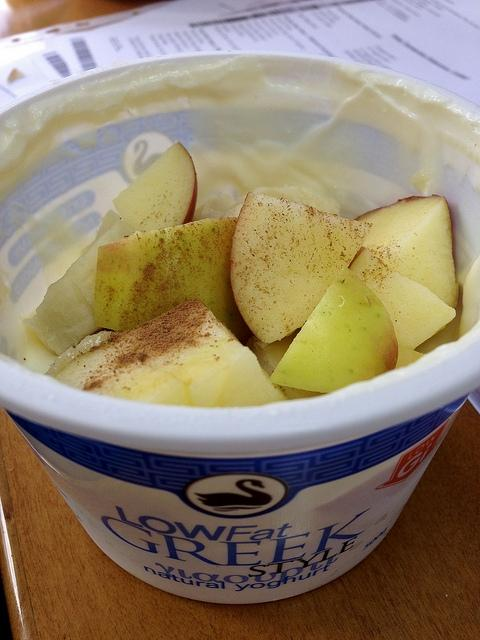apple: (49, 300, 290, 408), (230, 192, 374, 344), (93, 218, 254, 346), (23, 210, 136, 354), (270, 267, 398, 393), (354, 195, 459, 309), (347, 246, 456, 350), (112, 141, 198, 233), (246, 326, 302, 376), (395, 344, 426, 369)
